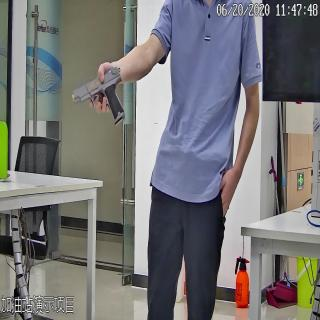gun: (71, 64, 125, 124)
